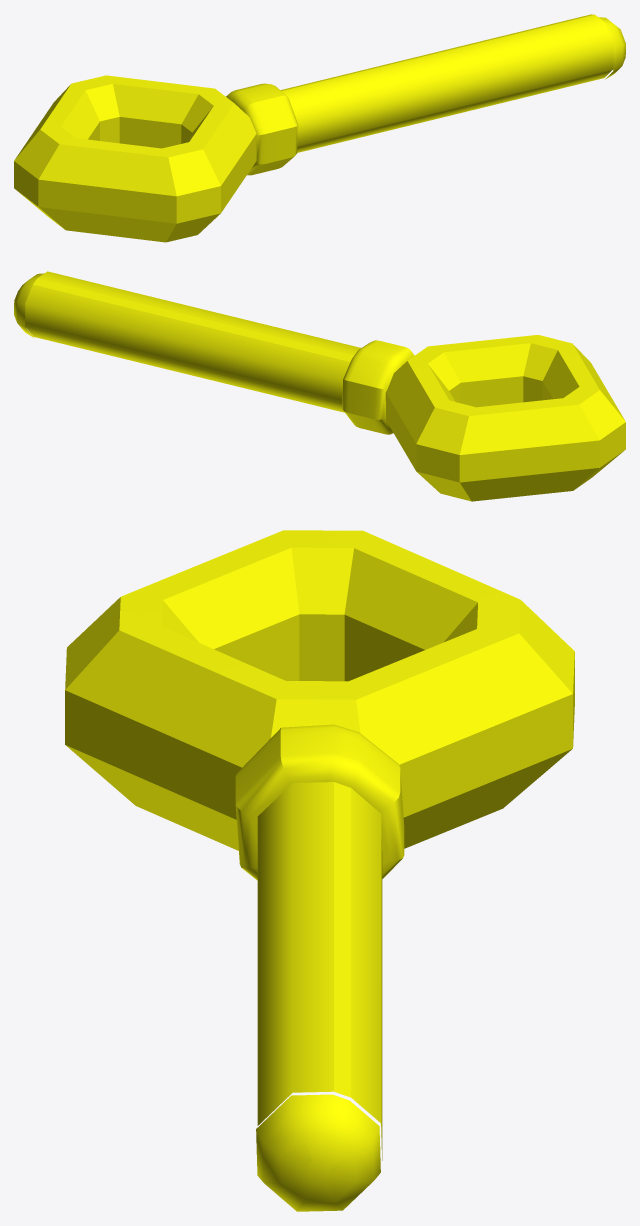
3 renders of one model, top to bottom at view 1: azimuth 30°, elevation 25°; view 2: azimuth 150°, elevation 25°; view 3: azimuth 270°, elevation 25°, orthographic. The views are drawn at different scales.
Visible parts, largest first — view 1: head, body, head.001; view 2: head, body, head.001; view 3: head, body, head.001.
Boxes of the visible parts, box(x1,y1,x2,y2) form: head: box(14, 75, 298, 242); body: box(280, 14, 613, 152); head.001: box(598, 17, 625, 79); head: box(342, 335, 625, 501); body: box(25, 271, 360, 412); head.001: box(14, 273, 44, 337); head: box(65, 530, 574, 880); body: box(257, 782, 382, 1160); head.001: box(256, 1094, 380, 1211).
Size of the model in its own units: 5.71 by 0.8173 by 2.13.
Materials: 1 (1 with a texture image).
